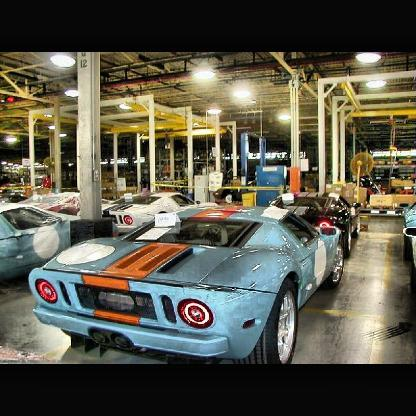Ford GT Coupe 2006: (29, 208, 345, 365)
